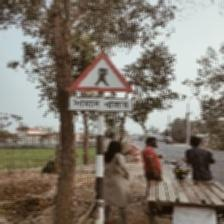Market-in-front: (66, 51, 134, 113)
